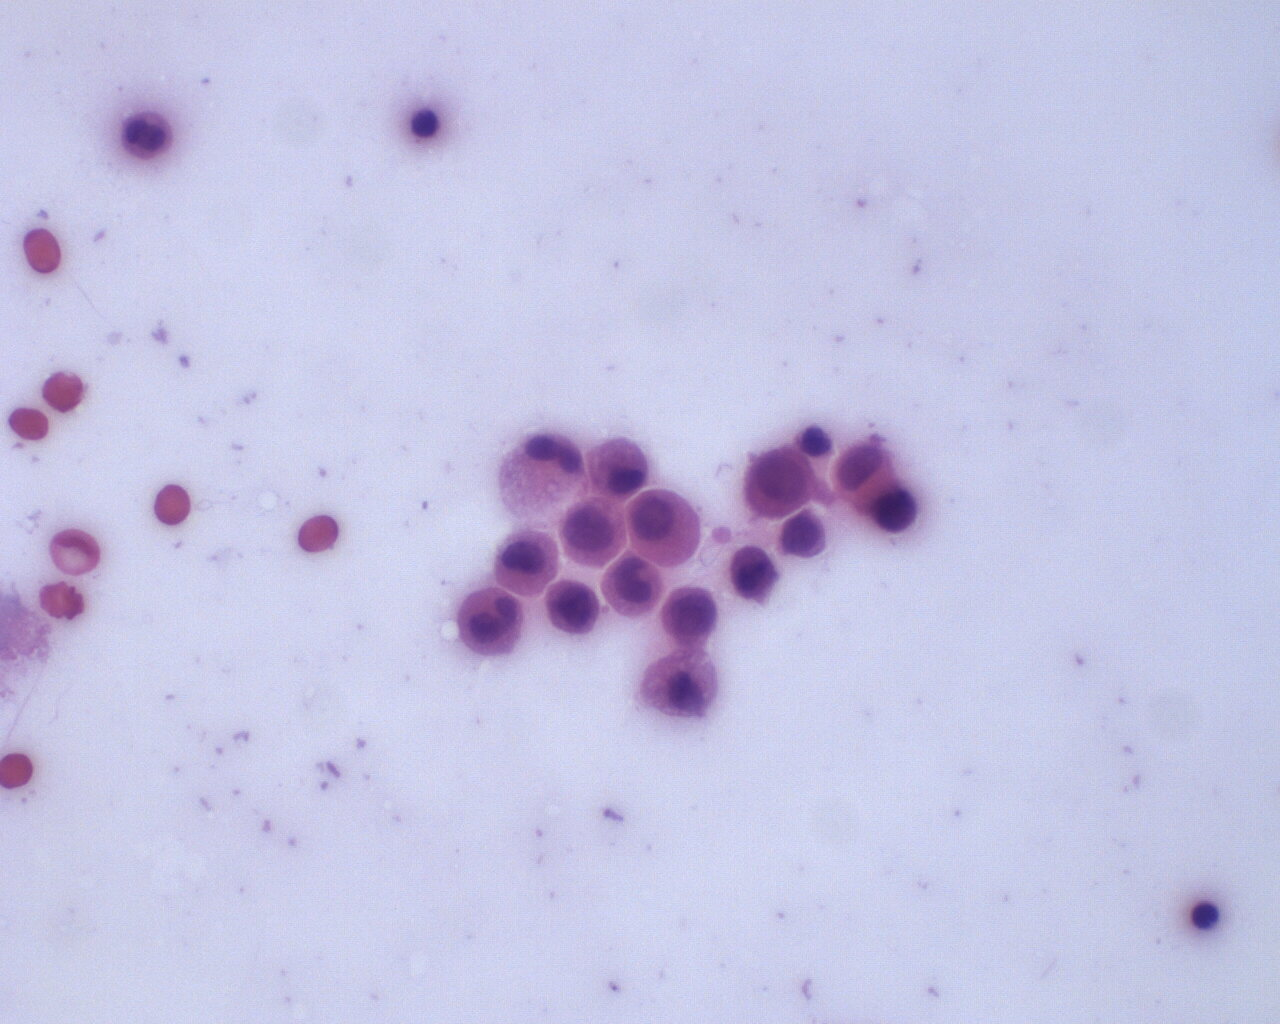ab: (740, 445, 819, 523), (559, 495, 631, 571), (658, 585, 721, 649), (544, 577, 601, 639), (728, 542, 781, 604), (776, 507, 829, 563)
histo: (494, 427, 590, 527)
lymph: (404, 102, 444, 141), (1189, 895, 1221, 936)
meso: (623, 486, 706, 567), (491, 523, 564, 597), (119, 106, 176, 164)
